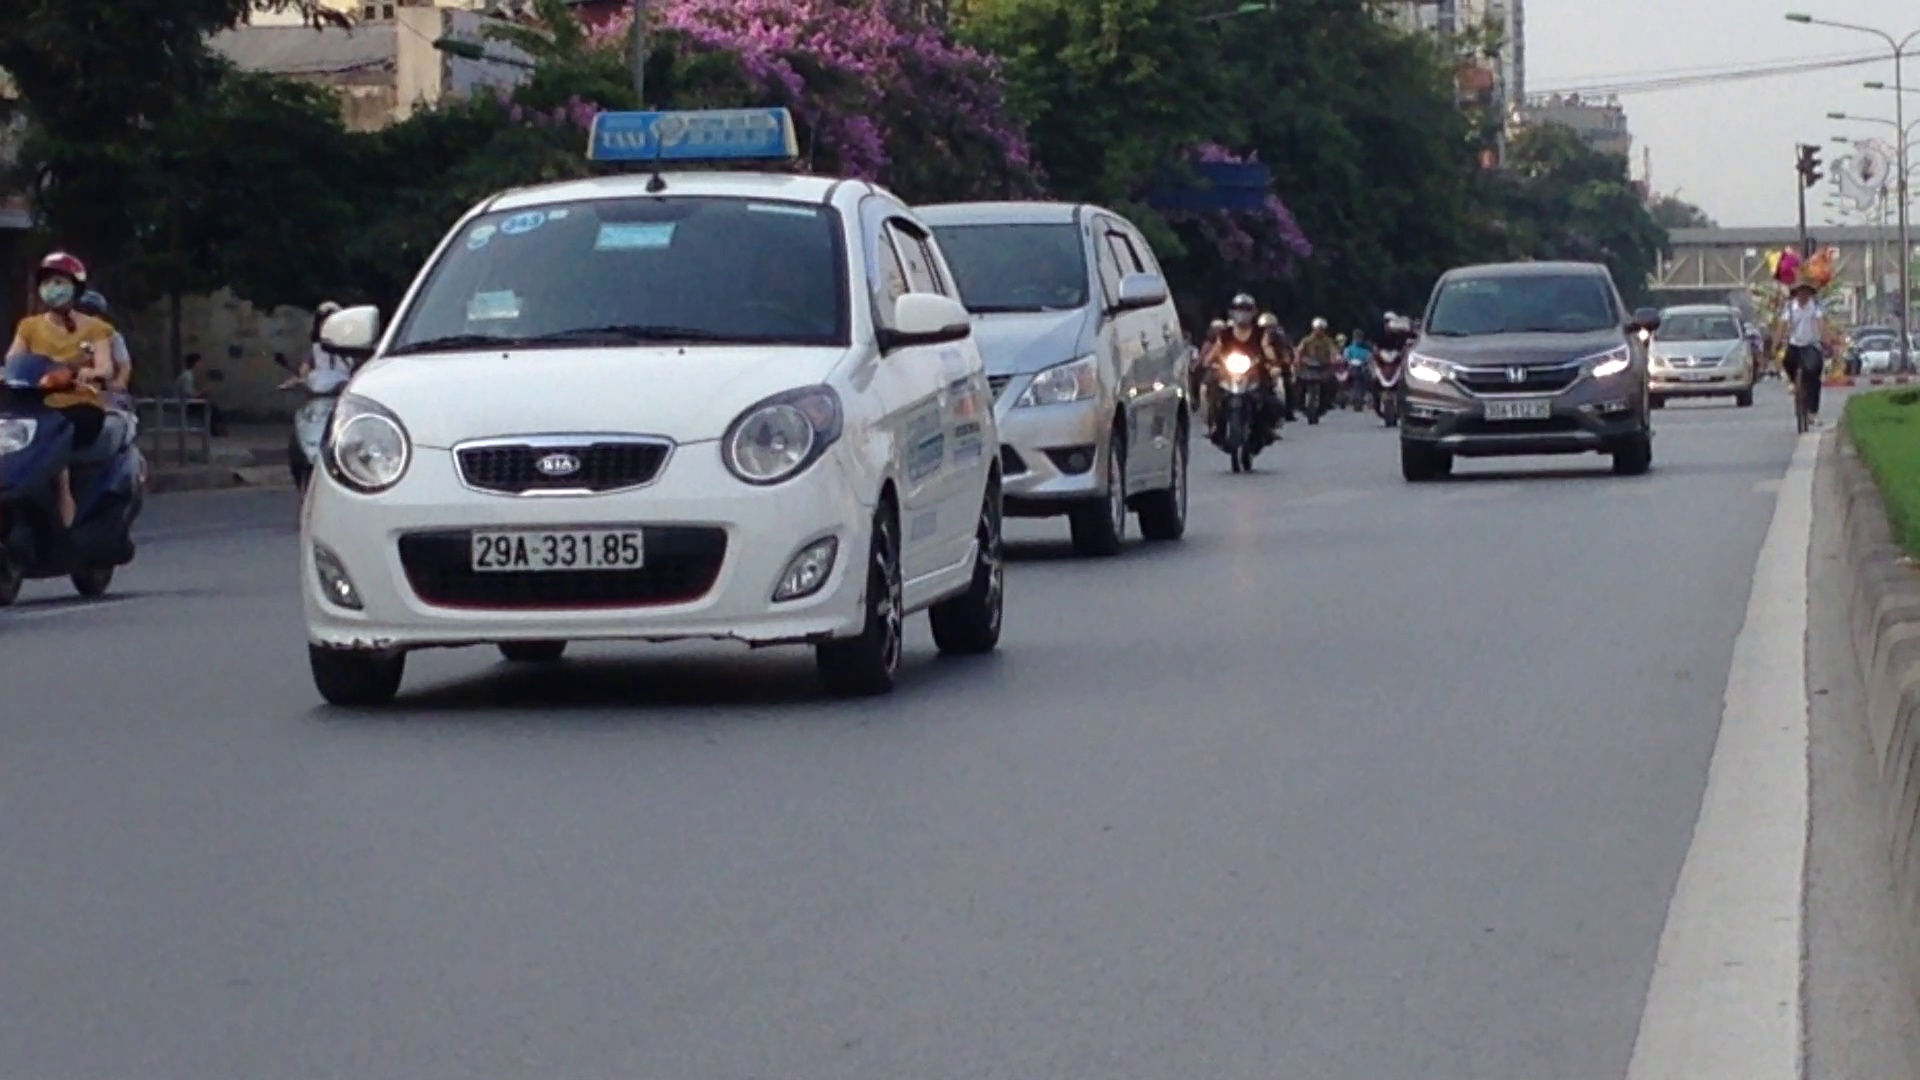vehicle-plate: (469, 527, 646, 574), (1484, 397, 1554, 421)
